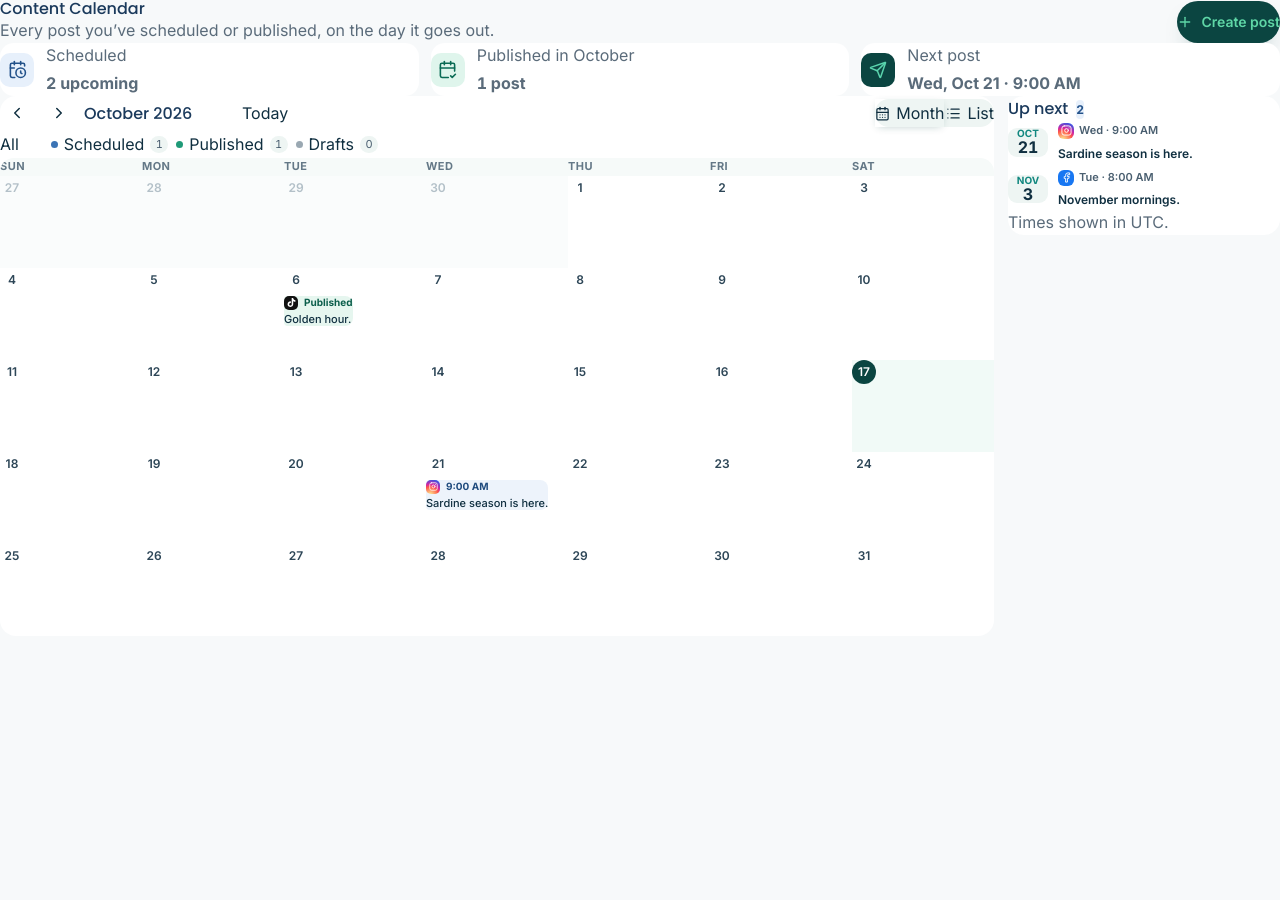
CalendarView › opens a day to show its posts, with metrics for published ones
Step 1. Click the button with aria-label "Tuesday, October 6" → [355, 314], box [284, 268, 426, 360]
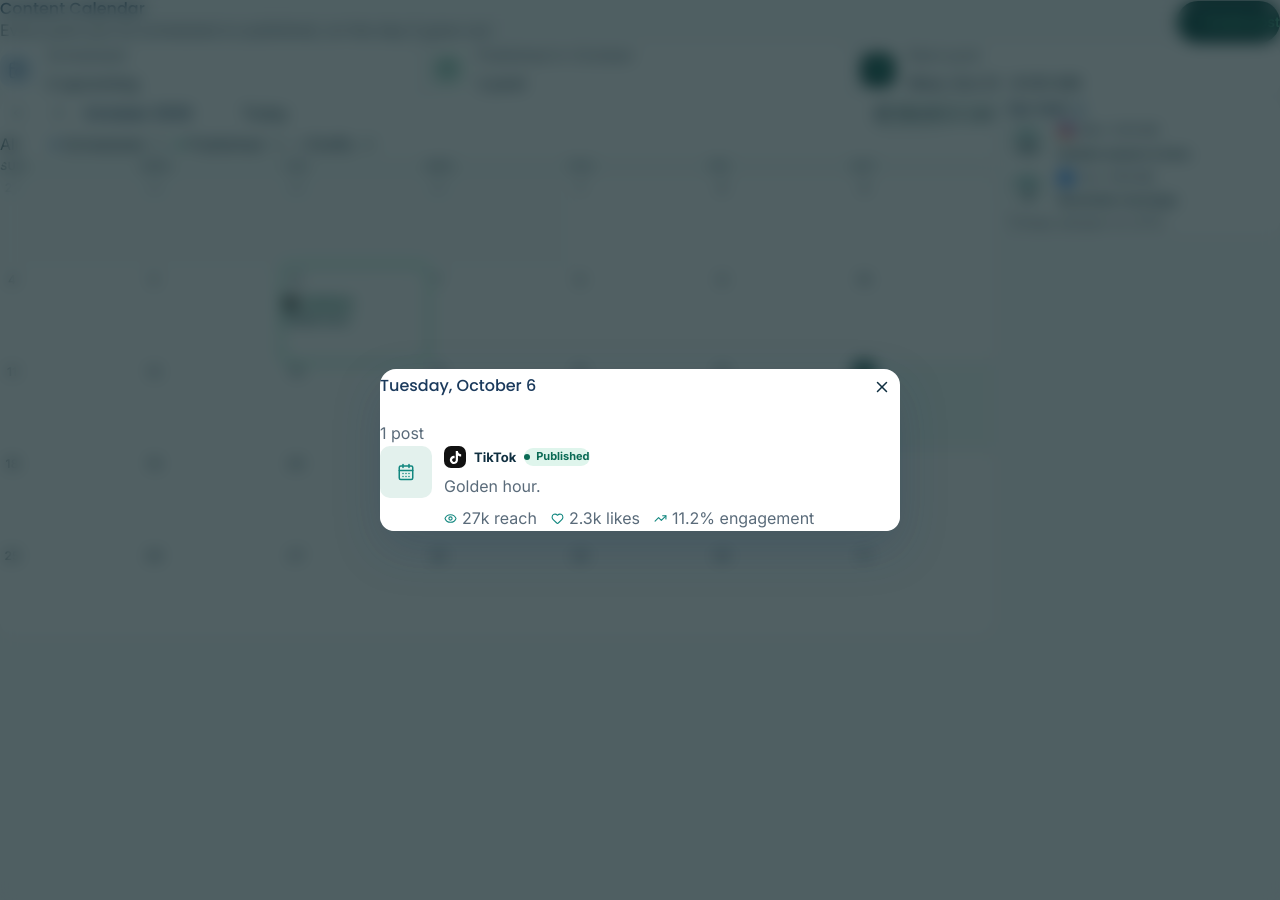
Expected: the text "27k reach" is shown, [444, 506, 537, 531]
